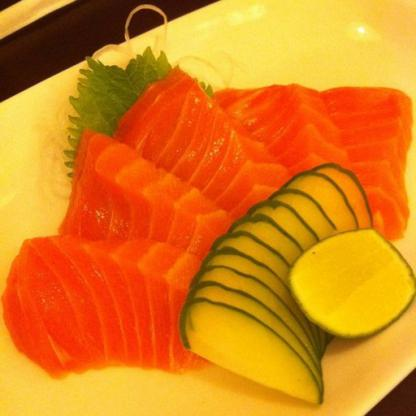salmon: (0, 226, 215, 371), (222, 76, 408, 236), (119, 74, 286, 224), (62, 136, 225, 254)
